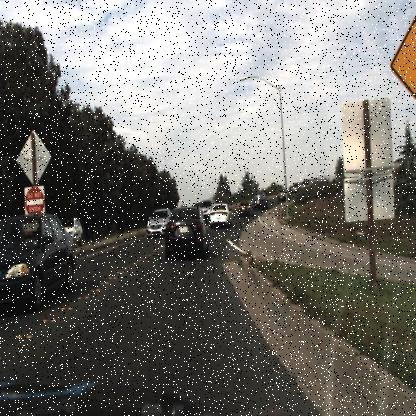car: (0, 213, 78, 314), (160, 205, 210, 266), (142, 206, 173, 239), (59, 213, 84, 250), (207, 201, 232, 230), (209, 200, 232, 228), (252, 184, 270, 212), (237, 198, 253, 220), (276, 186, 292, 205)
